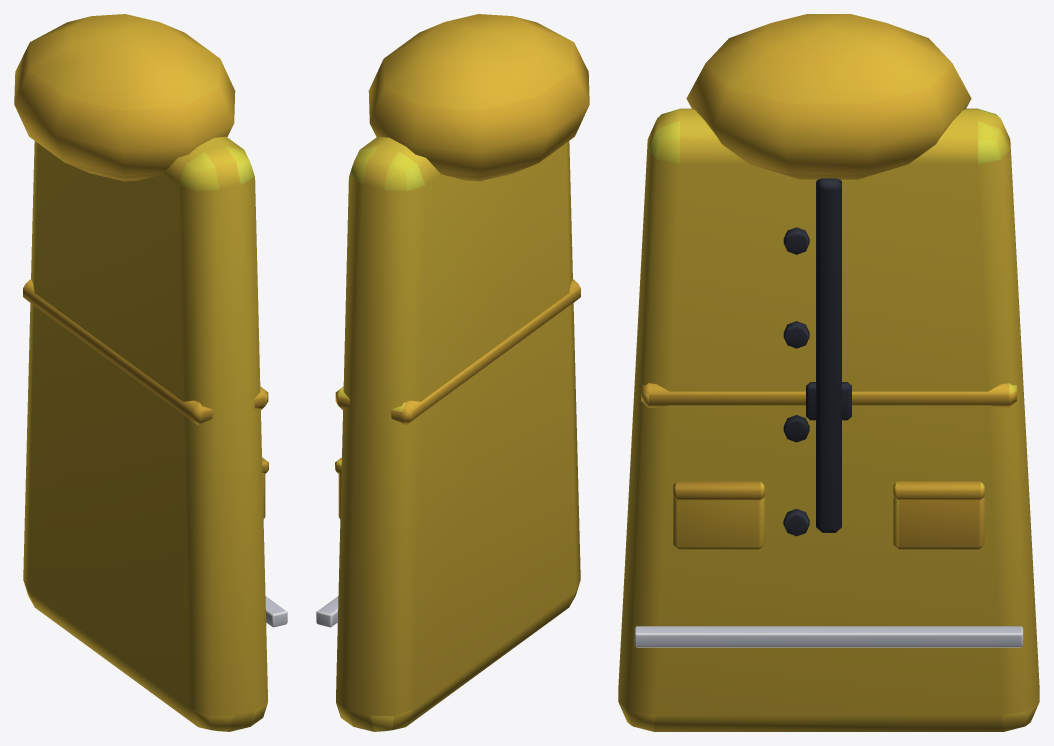
File: SM_Costume_Raincoat.fbx
3 views of the same model, side by side, from view 1: azimuth 30°, elevation 25°; view 2: azimuth 150°, elevation 25°; view 3: azimuth 270°, elevation 25° (orthographic). The views are drawn at different scales.
Visible parts, largest first — view 1: SM_Costume_Raincoat; view 2: SM_Costume_Raincoat; view 3: SM_Costume_Raincoat.
Boxes of the visible parts, box(x1,y1,x2,y2) form: SM_Costume_Raincoat: box(14, 14, 287, 731); SM_Costume_Raincoat: box(316, 14, 589, 731); SM_Costume_Raincoat: box(618, 14, 1039, 731).
Size of the model in its own units: 34.31 by 117 by 65.15.
